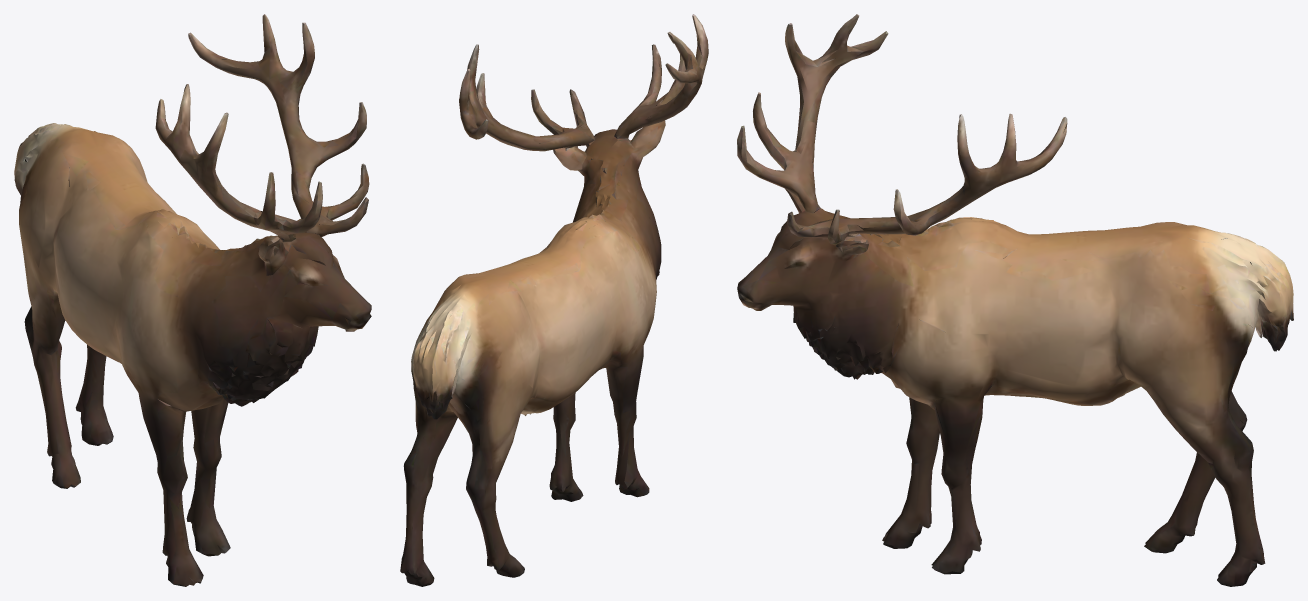
File: elk-bull.phone.glb
The picture shows the model from 3 angles, left to right: view 1: azimuth 30°, elevation 25°; view 2: azimuth 150°, elevation 25°; view 3: azimuth 270°, elevation 25°; orthographic projection. The views are drawn at different scales.
Visible parts, largest first — view 1: elk-bull; view 2: elk-bull; view 3: elk-bull.
Part boxes in pixels (<box>): elk-bull: <box>14,14,371,586</box>; elk-bull: <box>400,14,708,586</box>; elk-bull: <box>737,14,1293,586</box>.
Size of the model in its own units: 1.65 by 3.6 by 3.5.
Materials: 1 (1 with a texture image).
